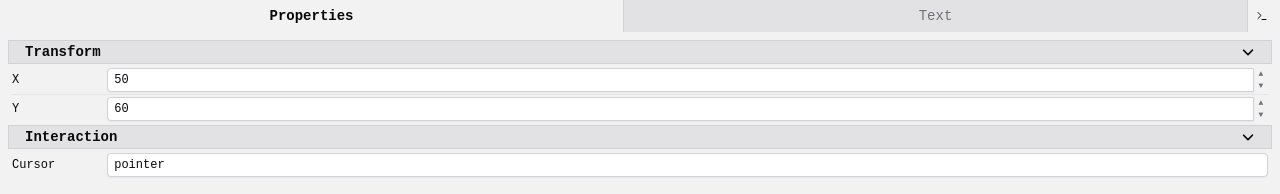
Test: SceneProperties › tabs › goes back to a tab it has already read without an empty frame
The width and height of the screenshot is (1280, 194).
Click the text "Text".
click(936, 16)  # box [624, 0, 1248, 32]
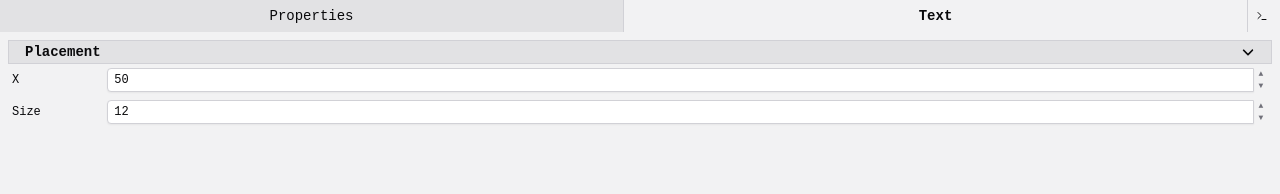
Click the text "Properties".
click(312, 16)  # box [0, 0, 624, 32]
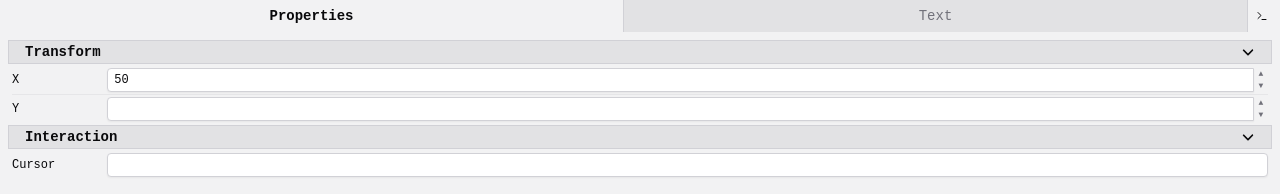
Now the text "Interaction" is shown, box [25, 129, 117, 145]
